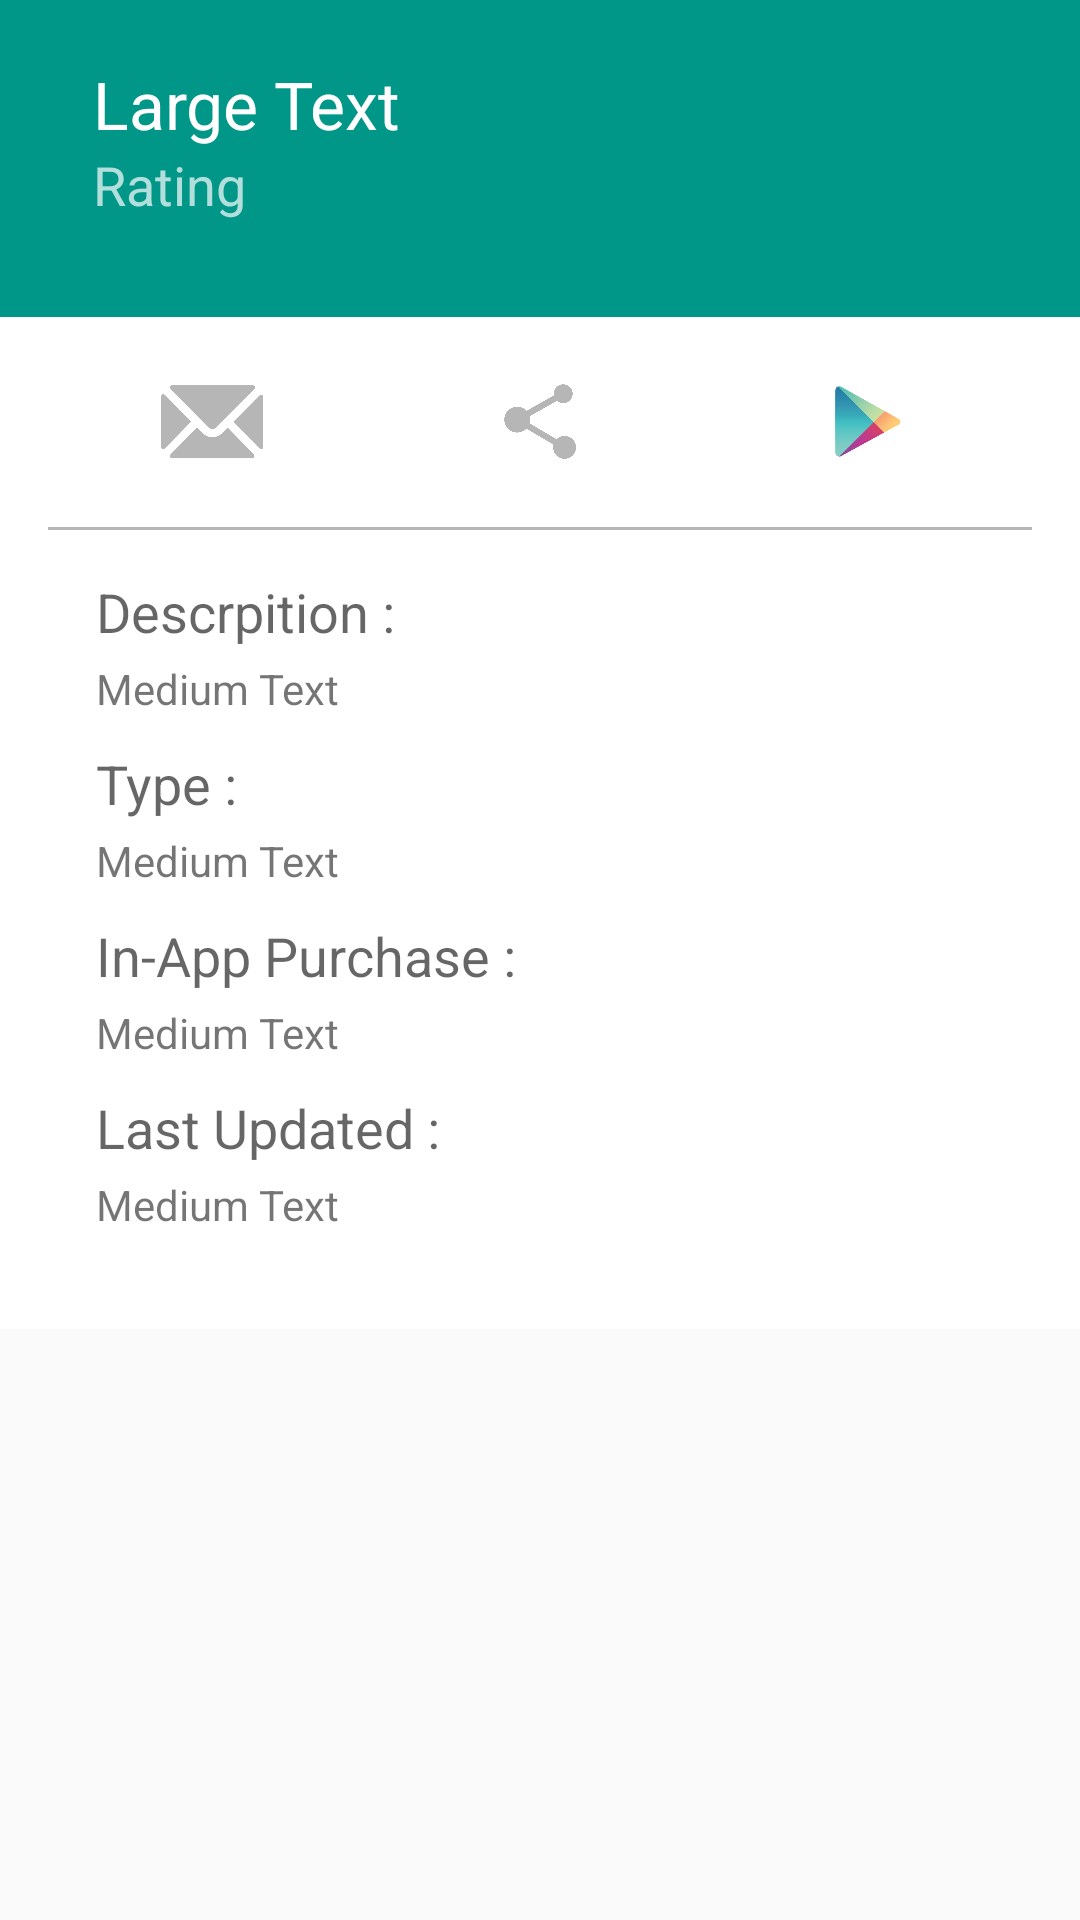

Screen size 1080px x 1920px. Icon name, then its box in pixels as box=[x1, y1, x2, y2]:
message: box=[161, 385, 263, 458]
share: box=[504, 384, 576, 459]
